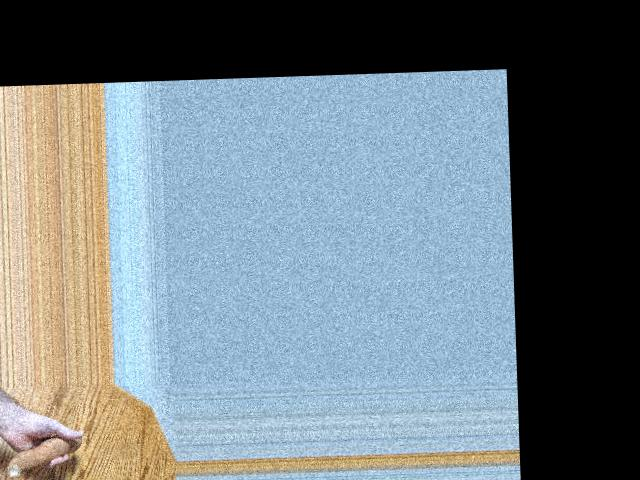sweet_potato: (2, 432, 81, 476)
